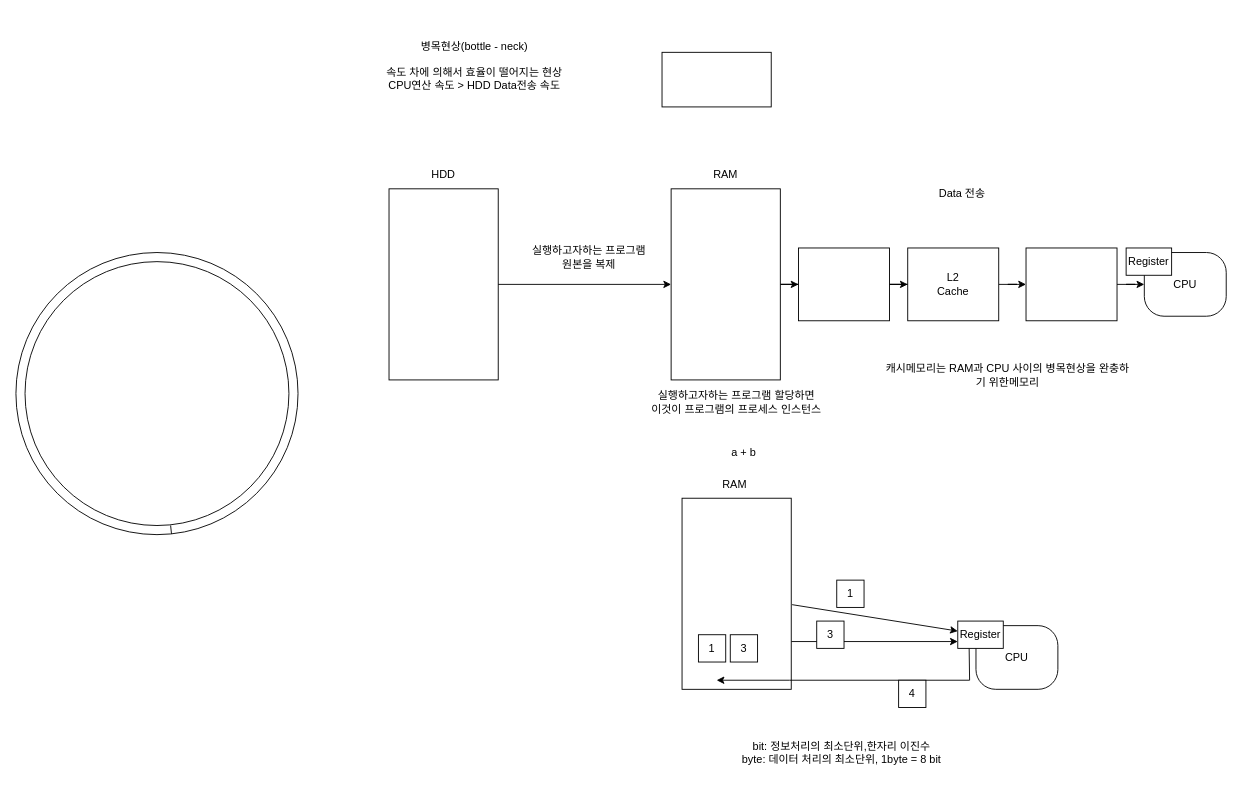
Some shapes in this 1242 by 804 pixel diagram are drawn without their labels. The centre of each missing label's shape, as x and y in pixels:
L1 Cache: the point at 1071,284
L3 Cache: the point at 844,284
변수: the point at 716,79
